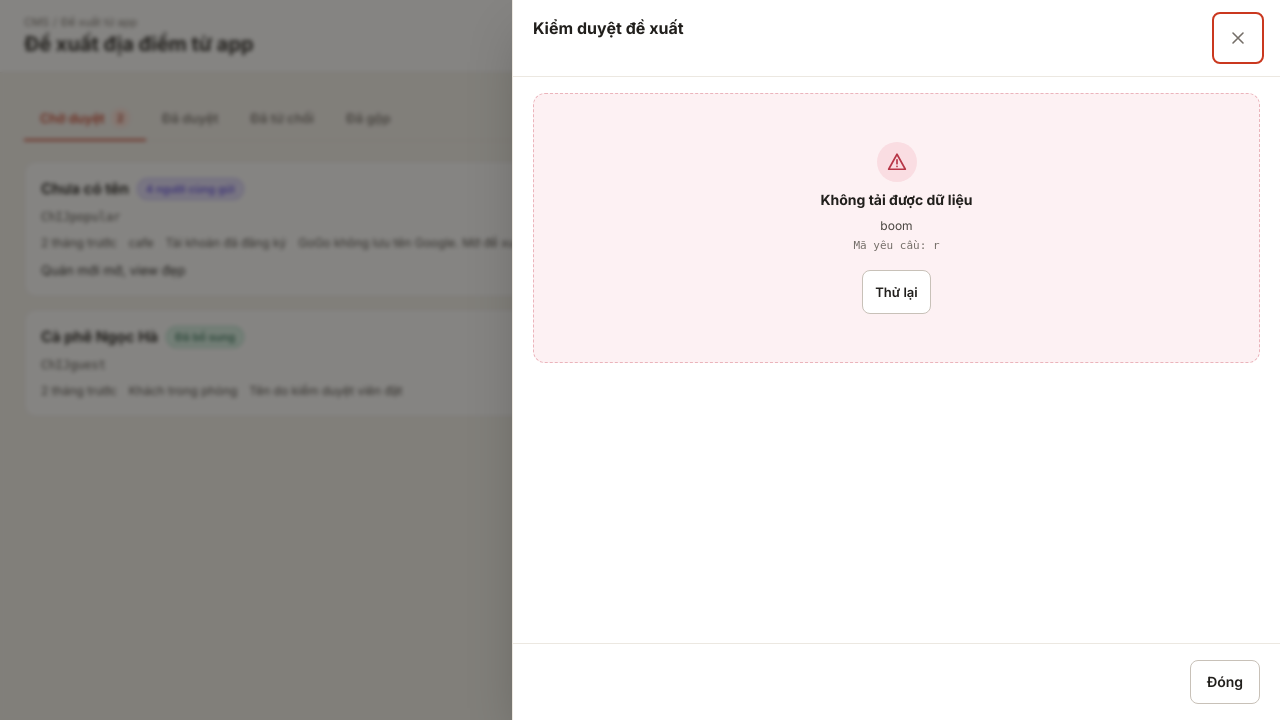
Test: closing before the submission has loaded › asks nothing after a failed load
expect the text "boom" is shown: met, box [880,218,913,233]
What coordinates should you click on to do the following:
click the button "Đóng"
I would click on:
 (1225, 682)
Its box is [1190,660,1260,704].
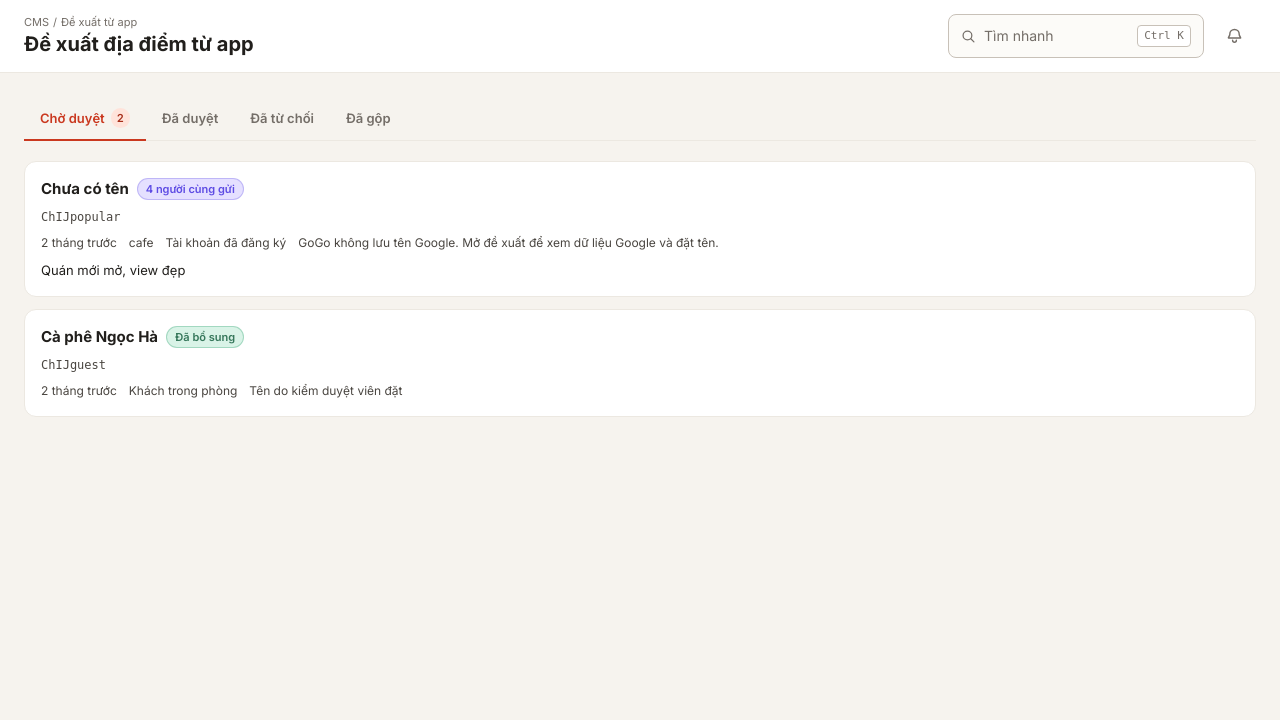
expect the heading "Kiểm duyệt đề xuất" is gone: met
